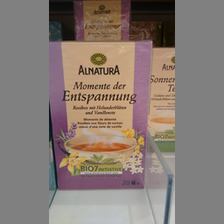tea: (51, 40, 153, 190)
